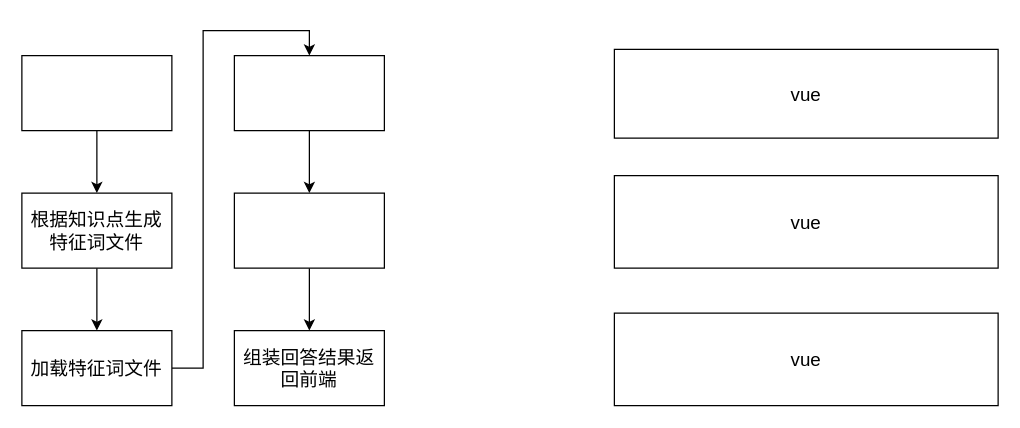
The diagram is 1020 pixels wide and 428 high, and some of its shapes have lost their labels. Each missing label, with the box of its shape:
加载原始数据: (21, 54, 172, 131)
根据aho-corasick算法进行问题分类: (233, 54, 384, 131)
根据问题分类执行neo4j查询: (233, 192, 384, 268)
